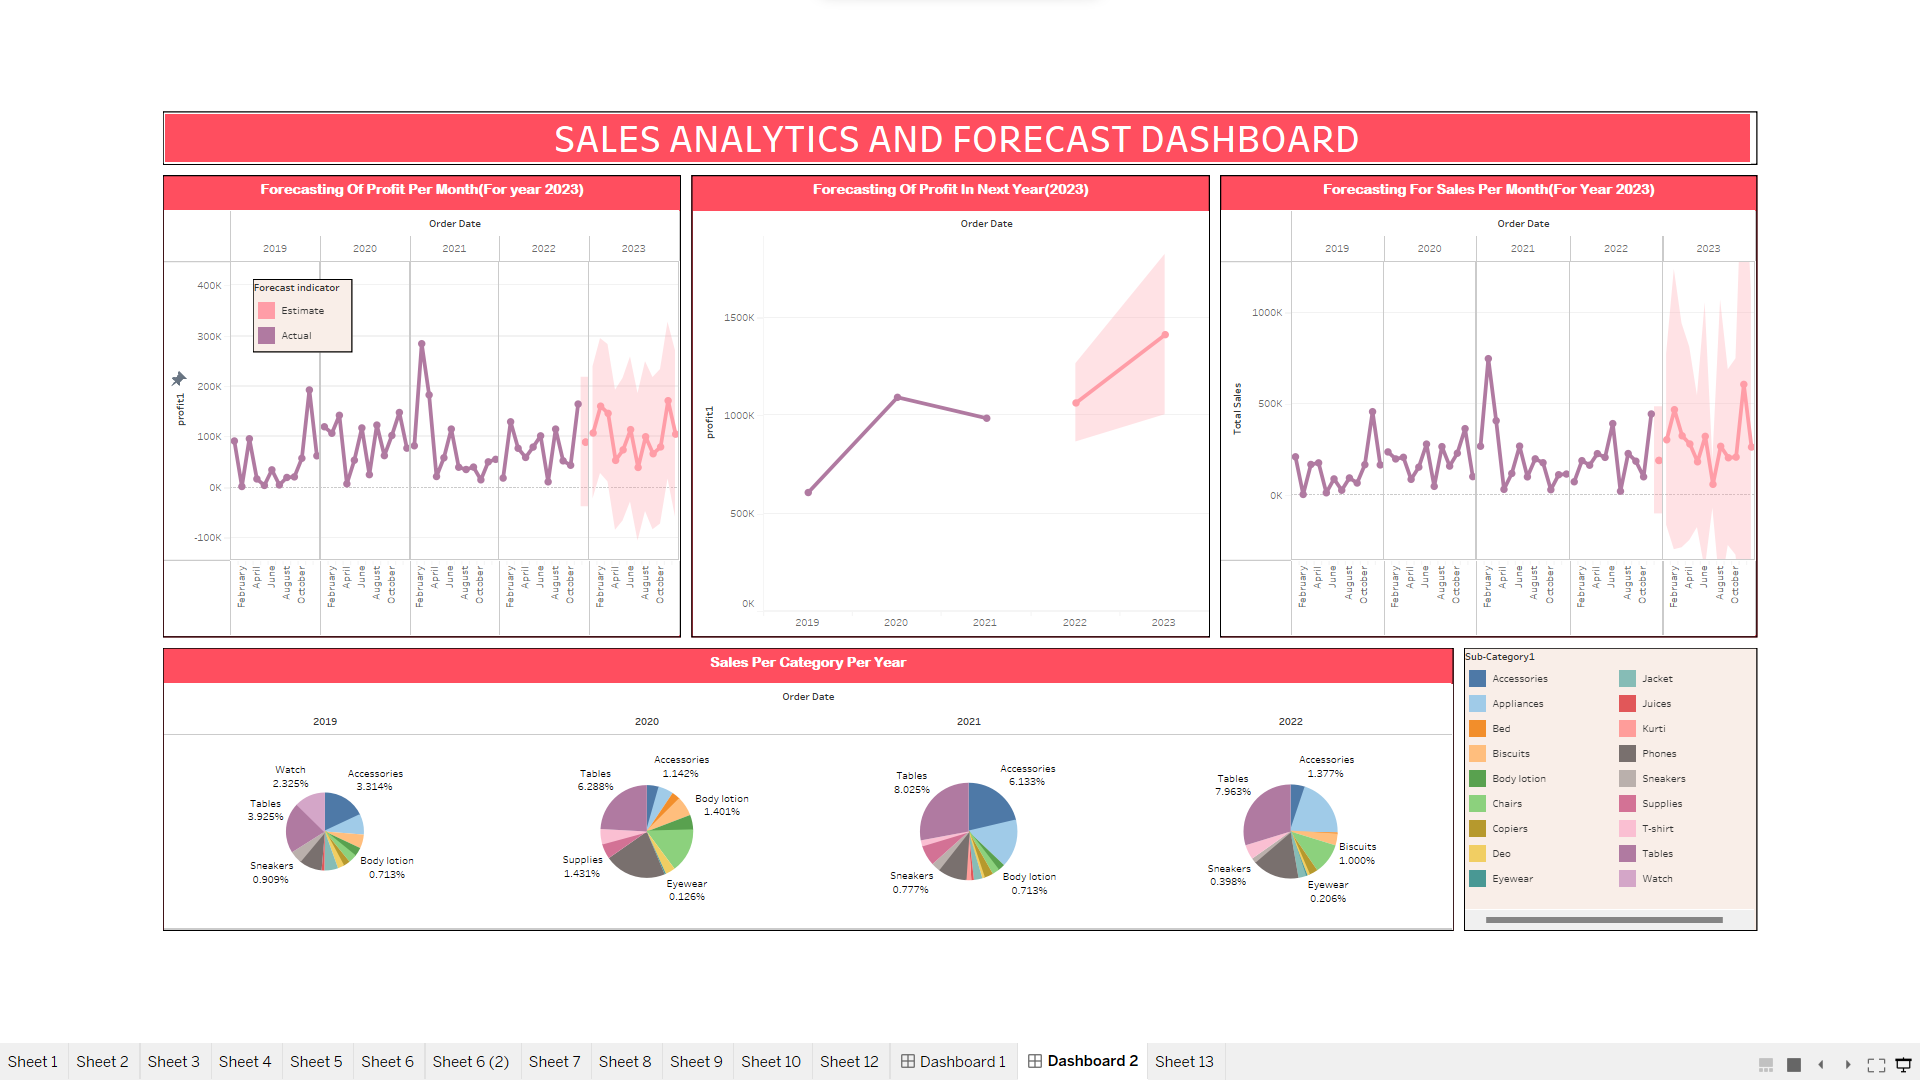

The page's visual inventory and layout, read from the dashboard file:
{"tool":"tableau","page":{"name":"Dashboard 2","canvas":[1300,680],"ordinal":1},"visuals":[{"type":"worksheet","title":"Sheet 12","mark":"Automatic","box":[8,8,1284,51]},{"type":"worksheet","title":"Sheet 8","mark":"Automatic","rows":["Calculation_506092026237984775"],"cols":["Order Date","Order Date"],"box":[8,59,423.1,377.6]},{"type":"worksheet","title":"Sheet 9","mark":"Automatic","rows":["Calculation_506092026237984775"],"cols":["Order Date"],"box":[431.1,59,423.1,377.6]},{"type":"worksheet","title":"Sheet 6 (2)","mark":"Automatic","rows":["Calculation_506092026232336385"],"cols":["Order Date","Order Date"],"box":[854.2,59,437.8,377.6]},{"type":"legend","title":"Sheet 9","param":"[federated.0mhcpd412laubh17j15f30r6mtps].[none:Forecast Indicator:nk]","box":[84,146,80,59]},{"type":"worksheet","title":"Sheet 2","mark":"Pie","cols":["Order Date"],"box":[8,436.6,1041,235.4]},{"type":"legend","title":"Sheet 2","param":"[federated.0mhcpd412laubh17j15f30r6mtps].[none:Sub-Category:nk]","box":[1049,436.6,243,235.4]}]}

Visuals, with their boxes on the page's 1300x680 design canvas (x1, y1, x2, y2). These are canvas units, not pixel positions in the 1920x1080 screenshot, which may show the page scaled, cropped or inside an application window:
"Sheet 12" worksheet: x1=8 y1=8 x2=1292 y2=59
"Sheet 8" worksheet: x1=8 y1=59 x2=431 y2=437
"Sheet 9" worksheet: x1=431 y1=59 x2=854 y2=437
"Sheet 6 (2)" worksheet: x1=854 y1=59 x2=1292 y2=437
"Sheet 9" legend: x1=84 y1=146 x2=164 y2=205
"Sheet 2" worksheet (Pie marks): x1=8 y1=437 x2=1049 y2=672
"Sheet 2" legend: x1=1049 y1=437 x2=1292 y2=672
